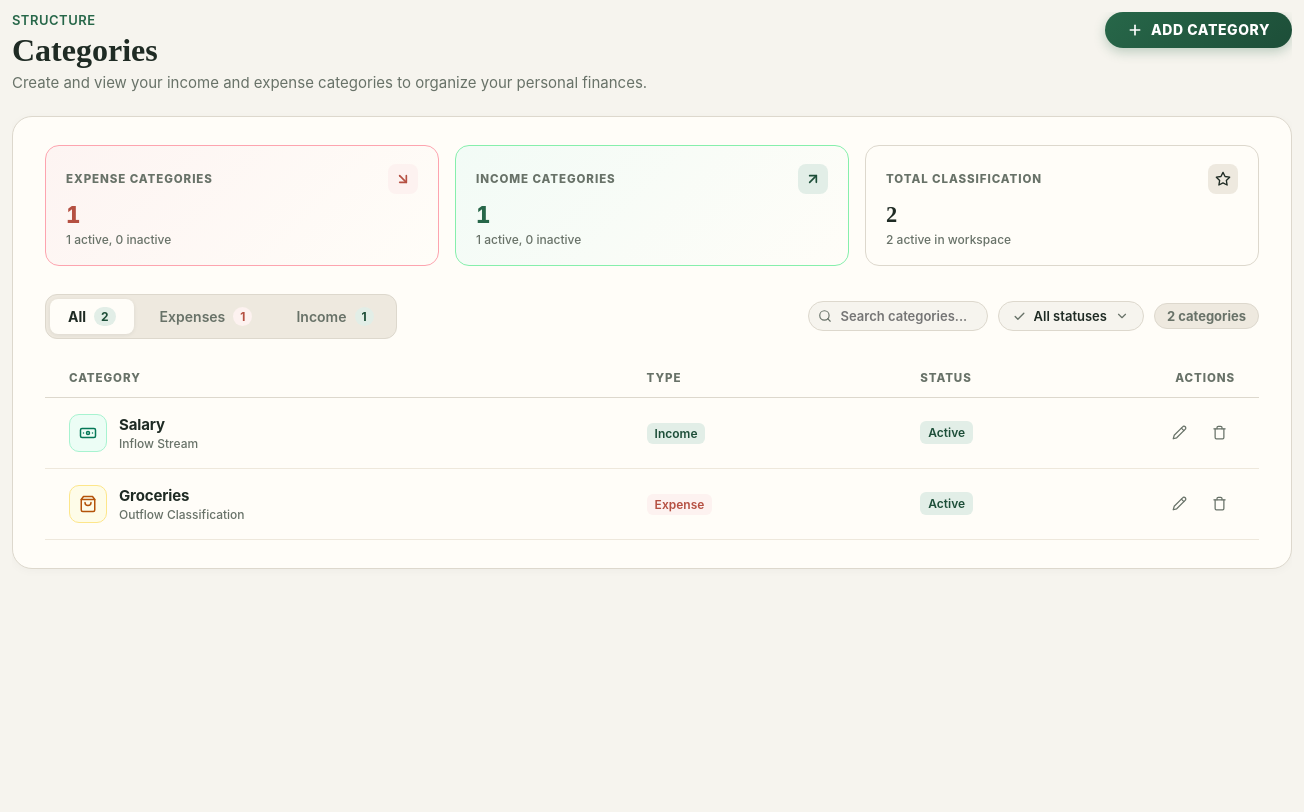
it: CategoriesView › filters categories via search input and allows clearing filters
This screenshot has width=1304, height=812.
Type "groc" into the field with placeholder "Search categories...".
click(898, 316); type("groc")  # box [808, 301, 988, 331]
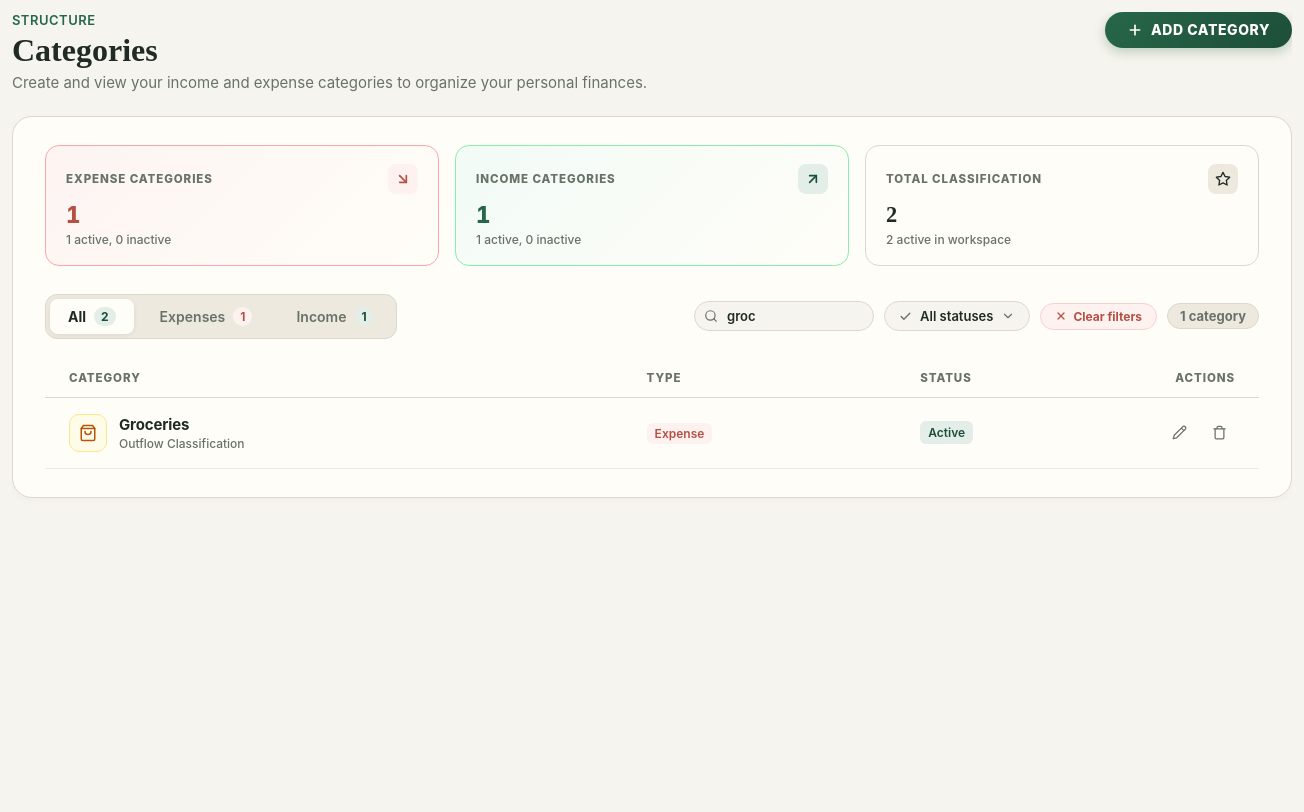
Expected: the text "Groceries" is shown, [119, 415, 189, 434]
Expected: the text "Salary" is gone
Click the button "Clear filters".
click(1099, 316)  # box [1040, 303, 1157, 330]
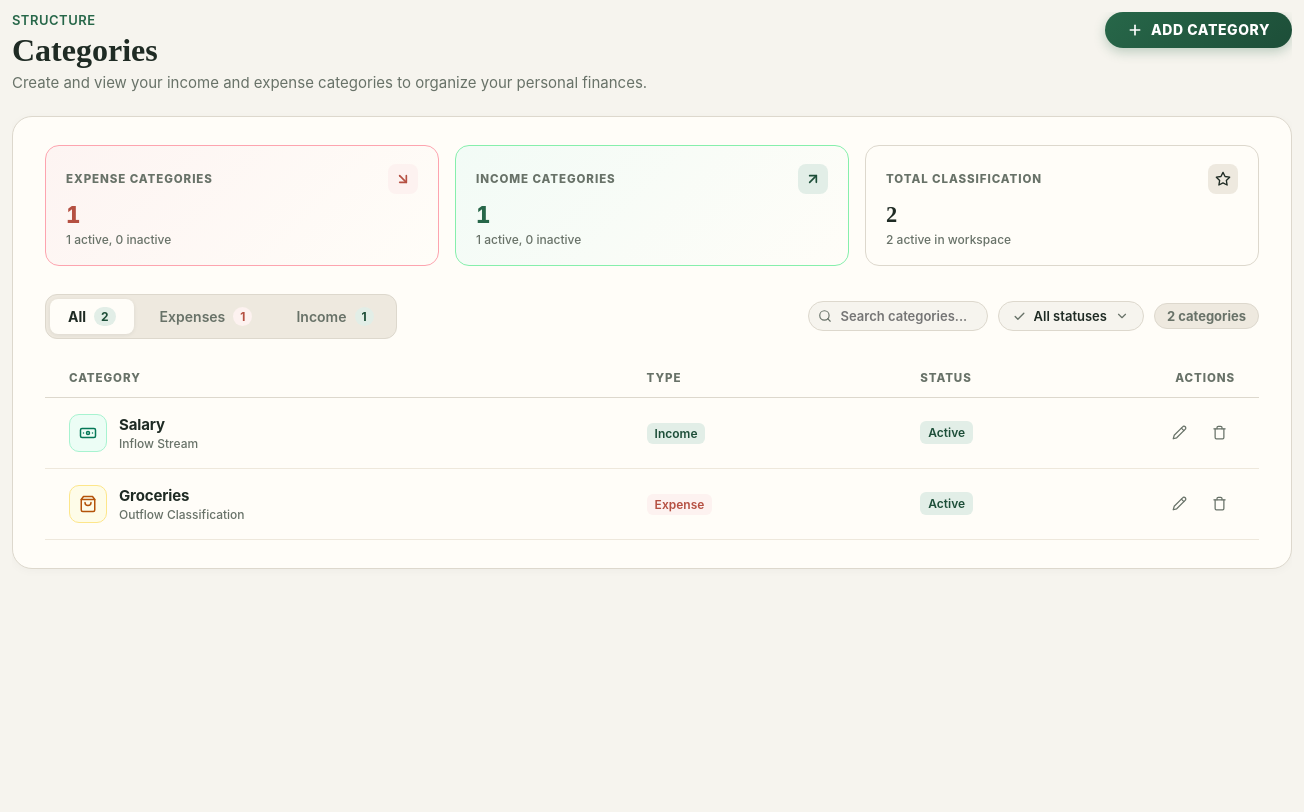
Expected: the text "Groceries" is shown, [119, 486, 189, 505]
Expected: the text "Salary" is shown, [119, 415, 165, 434]
